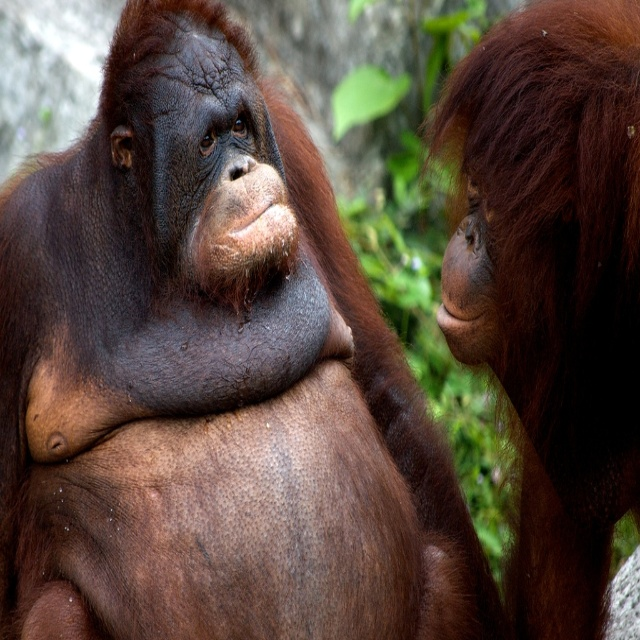Monkey: (30, 8, 570, 615)
